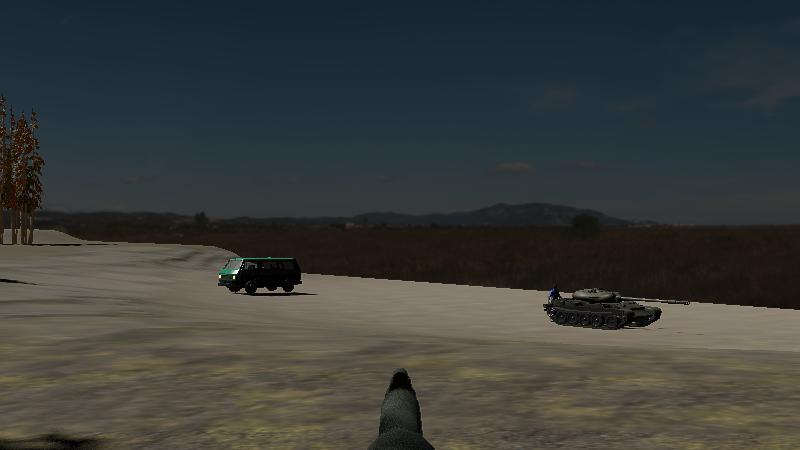Tank: (539, 285, 692, 333)
car: (215, 255, 304, 296)
